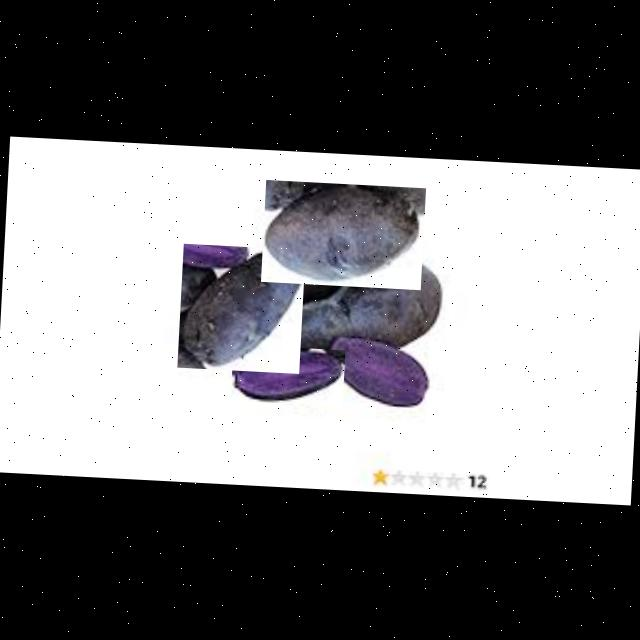Damaged potato: (260, 179, 425, 289), (176, 243, 304, 373), (324, 331, 435, 409), (230, 344, 344, 406)
